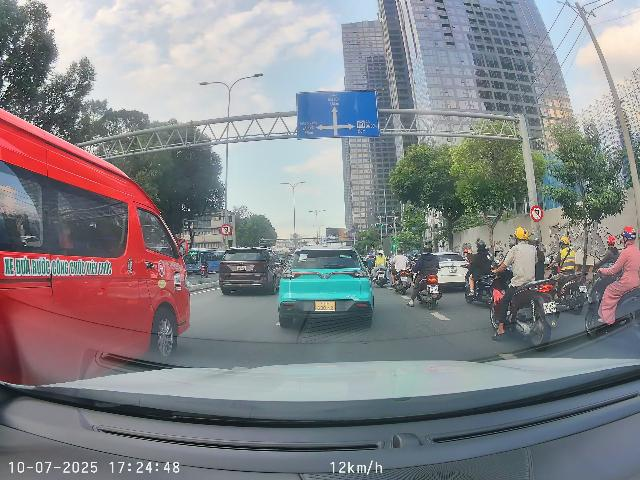103c-cam-oto-re-trai: (531, 205, 543, 222), (220, 224, 232, 236)
